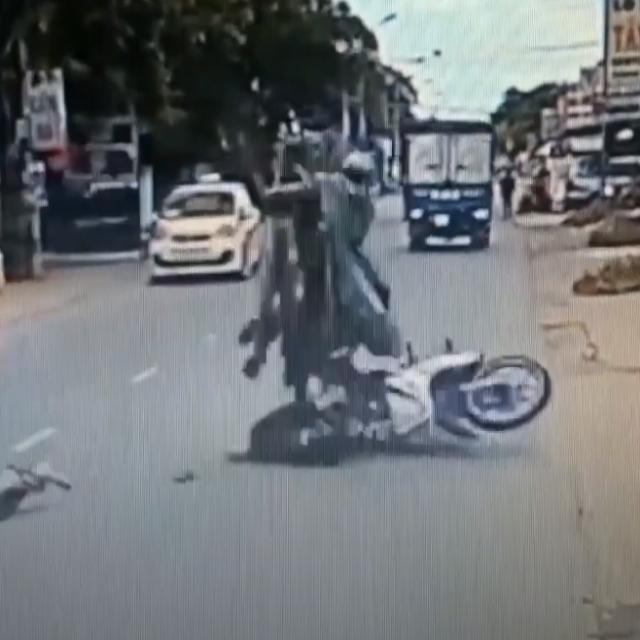accident: (240, 119, 554, 468)
non-accident: (524, 127, 640, 211)
